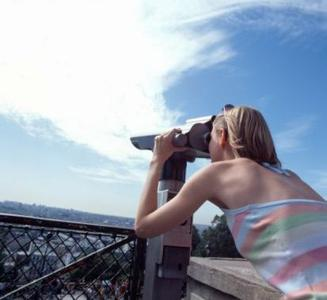person: (134, 104, 326, 299)
